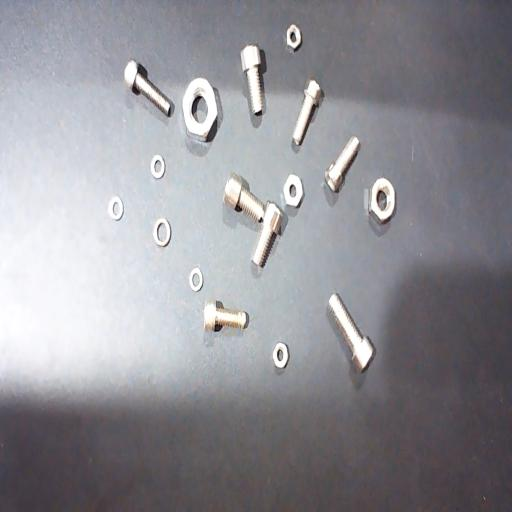nut: (182, 77, 222, 144), (368, 177, 397, 227), (283, 173, 305, 211), (272, 342, 290, 371), (286, 23, 302, 52)
screw: (327, 292, 376, 376), (124, 60, 174, 117), (251, 200, 287, 270), (223, 172, 267, 227), (324, 135, 361, 195), (292, 79, 324, 148), (240, 44, 267, 119), (204, 300, 250, 334)
washer: (153, 218, 172, 248), (108, 195, 124, 221), (150, 154, 166, 179), (189, 267, 203, 293)
